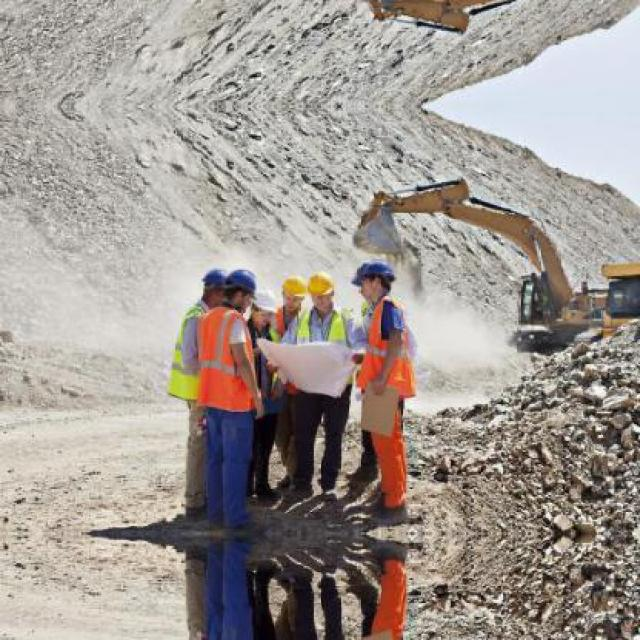Reflective-Jacket: (188, 305, 257, 418), (354, 295, 415, 401)
Safety-Helmet: (346, 256, 400, 291), (218, 264, 262, 299), (192, 262, 231, 298), (304, 268, 338, 302), (277, 273, 309, 304)
